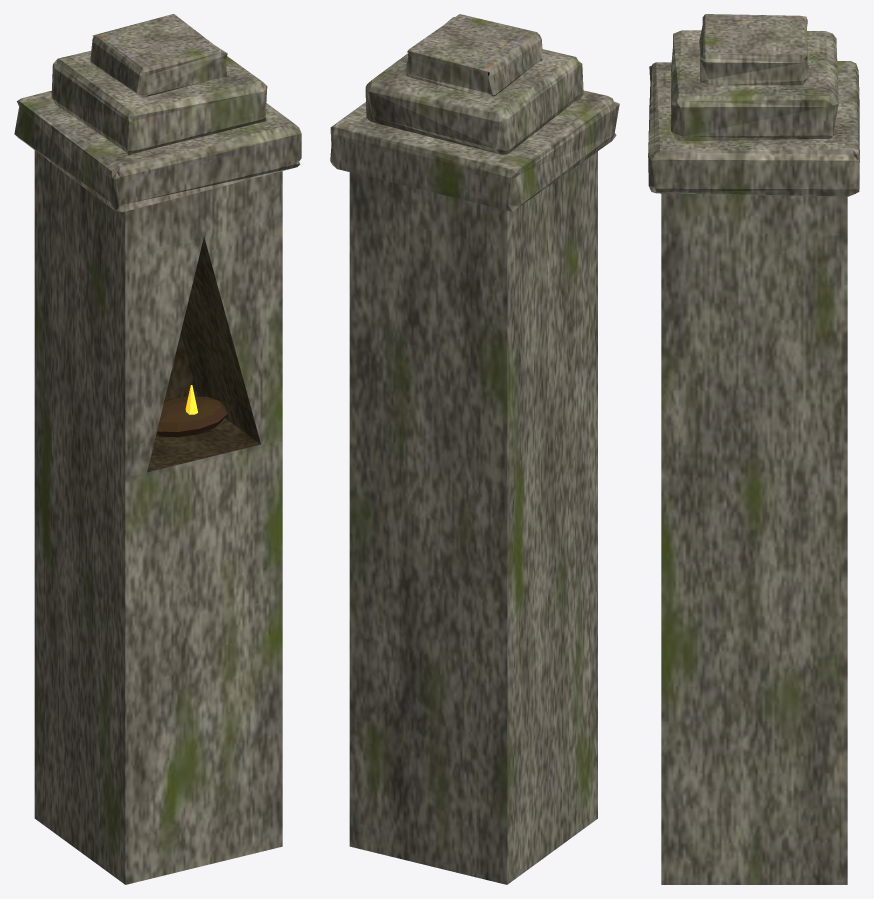
Rendered from Stone_Vazhivilakku.glb.
3 renders of one model, left to right at view 1: azimuth 30°, elevation 25°; view 2: azimuth 150°, elevation 25°; view 3: azimuth 270°, elevation 25°, orthographic. The views are drawn at different scales.
Visible parts, largest first — view 1: Stone_Vazhivilakku; view 2: Stone_Vazhivilakku; view 3: Stone_Vazhivilakku.
Part boxes in pixels (<box>): Stone_Vazhivilakku: <box>14,14,301,884</box>; Stone_Vazhivilakku: <box>330,14,619,884</box>; Stone_Vazhivilakku: <box>648,14,859,884</box>.
Size of the model in its own units: 0.4898 by 1.92 by 0.4548.
Materials: 2 (1 with a texture image).
